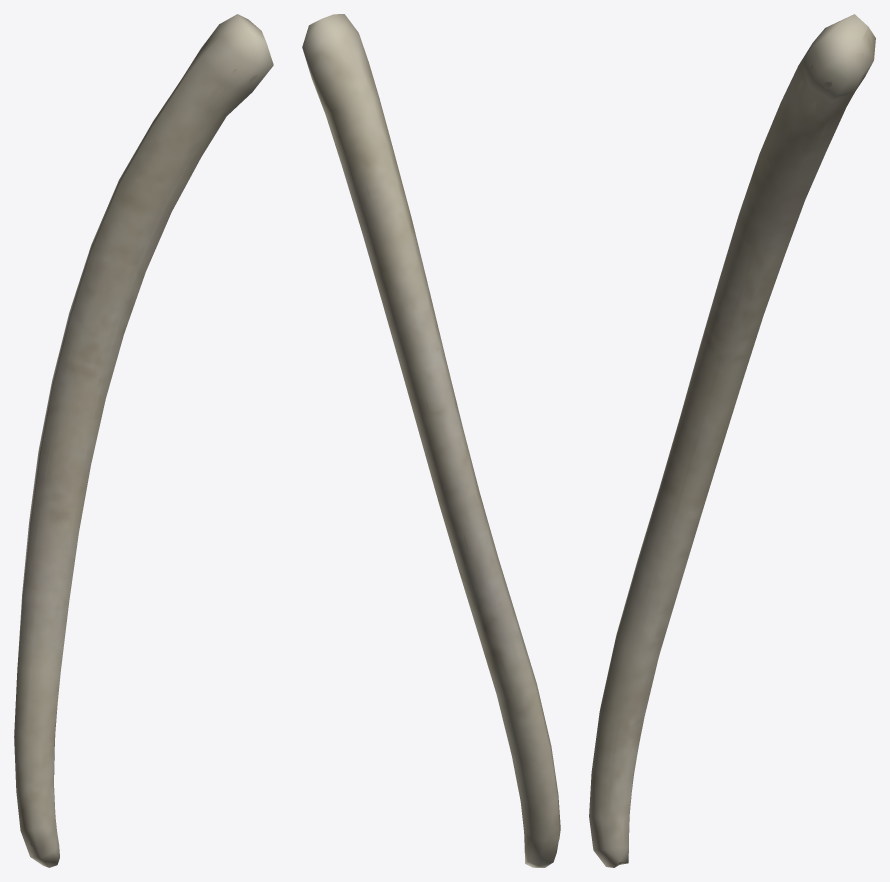
Rendered from Rib R03.fbx.
3 renders of one model, left to right at view 1: azimuth 30°, elevation 25°; view 2: azimuth 150°, elevation 25°; view 3: azimuth 330°, elevation 25°, orthographic. The views are drawn at different scales.
Visible parts, largest first — view 1: Rib R03 low, Rib R03; view 2: Rib R03 low, Rib R03; view 3: Rib R03 low, Rib R03.
Part boxes in pixels (<box>): Rib R03 low: <box>14,14,273,867</box>; Rib R03: <box>19,37,257,860</box>; Rib R03 low: <box>302,14,560,867</box>; Rib R03: <box>326,45,552,851</box>; Rib R03 low: <box>589,14,875,867</box>; Rib R03: <box>595,53,864,864</box>.
Bounding box in the file's own units: 1.78 × 5.47 × 0.6998.
1 material, 1 textured.
